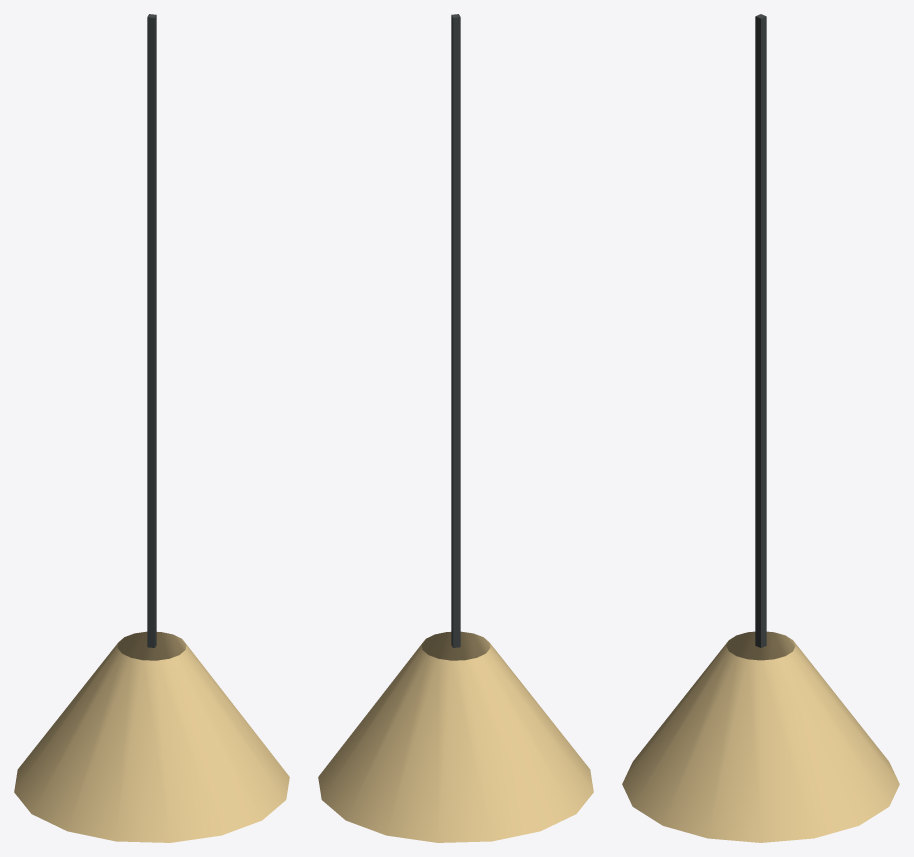
The model's file is pendant.glb.
The picture shows the model from 3 angles, left to right: view 1: azimuth 30°, elevation 25°; view 2: azimuth 150°, elevation 25°; view 3: azimuth 270°, elevation 25°; orthographic projection.
Visible parts, largest first — view 1: pendant; view 2: pendant; view 3: pendant.
Part boxes in pixels (x1,y1,x2,y2): pendant: (14,14,289,842); pendant: (318,14,593,842); pendant: (622,14,899,842).
Bounding box in the file's own units: 0.4 × 1.27 × 0.4.
